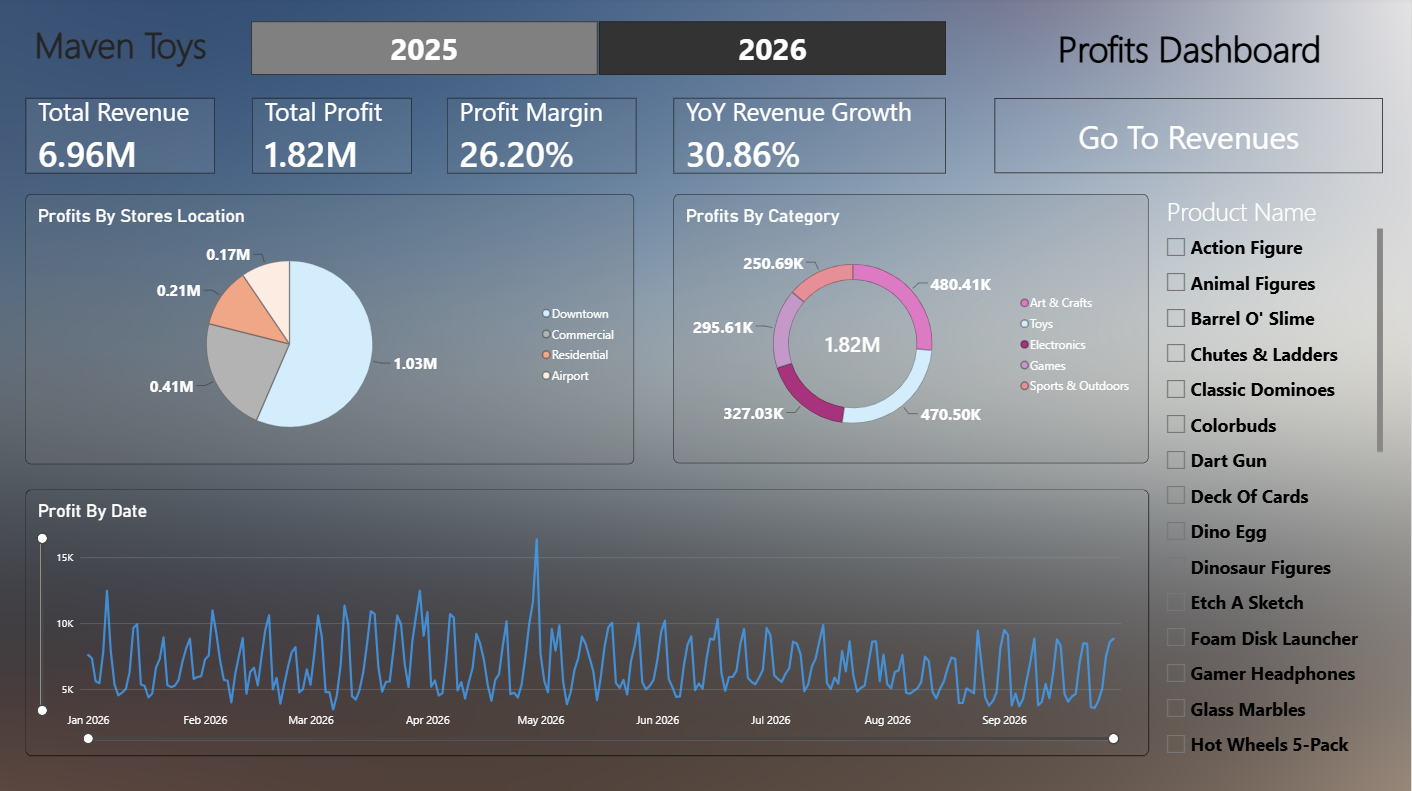

The page's visual inventory and layout, read from the dashboard file:
{"tool":"powerbi","page":{"name":"Profits","canvas":[1920,1080],"ordinal":1},"visuals":[{"type":"image","box":[0,0,1920,1080],"z":0},{"type":"cardVisual","fields":{"Data":["measures_.Total Sales Revenue"]},"box":[46,138,256,102],"z":1000},{"type":"cardVisual","fields":{"Data":["measures_.Total Profit"]},"box":[352,138,216,102],"z":2000},{"type":"cardVisual","fields":{"Data":["measures_.Profit Margin %"]},"box":[616,138,256,102],"z":3000},{"type":"cardVisual","fields":{"Data":["measures_.YoY Revenue Growth %"]},"box":[922,138,368,102],"z":4000},{"type":"slicer","fields":{"Values":["Calendar.Year"]},"box":[331.1,31.5,978.9,75.8],"z":5000},{"type":"shape","box":[1358.9,32.2,523.3,74.4],"z":6000},{"type":"pieChart","title":"Profits By Stores Location","fields":{"Category":["stores.Store_Location"],"Y":["measures_.Total Profit"]},"box":[47.5,267.5,822.5,365],"z":7000},{"type":"donutChart","title":"Profits By Category","fields":{"Category":["products.Product_Category"],"Y":["measures_.Total Profit"]},"box":[922,268,642,364],"z":8000},{"type":"shape","box":[1356.7,138.3,525,101.7],"z":9000},{"type":"actionButton","box":[1356.7,138.3,525,101.7],"z":10000},{"type":"textbox","box":[48,32,254,74],"z":11000},{"type":"lineChart","title":"Profit By Date","fields":{"Category":["Calendar.Date"],"Y":["measures_.Total Profit"]},"box":[46,668,1518,360],"z":12000},{"type":"slicer","fields":{"Values":["products.Product_Name"]},"box":[1582,268,300,760],"z":13000}]}

Visuals, with their boxes in screenshot pixels (x1, y1, x2, y2), scaled from the page's 1920x1080 canvas onto the 1412x791 screenshot:
image: (0,0,1411,790)
cardVisual - measures_.Total Sales Revenue: (34,101,222,176)
cardVisual - measures_.Total Profit: (259,101,418,176)
cardVisual - measures_.Profit Margin %: (453,101,641,176)
cardVisual - measures_.YoY Revenue Growth %: (678,101,949,176)
slicer - Calendar.Year: (243,23,963,79)
shape: (999,24,1384,78)
"Profits By Stores Location" pieChart: (35,196,640,463)
"Profits By Category" donutChart: (678,196,1150,463)
shape: (998,101,1384,176)
actionButton: (998,101,1384,176)
textbox: (35,23,222,78)
"Profit By Date" lineChart: (34,489,1150,753)
slicer - products.Product_Name: (1163,196,1384,753)
